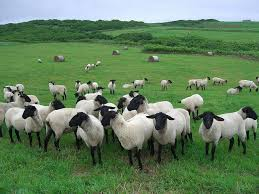sheep: (105, 106, 152, 167), (148, 107, 192, 160), (197, 112, 248, 155), (3, 103, 44, 150), (70, 109, 107, 161), (177, 89, 207, 114), (239, 104, 259, 135), (76, 97, 104, 117), (46, 80, 69, 98), (238, 78, 258, 97), (1, 82, 19, 103), (18, 90, 39, 105), (195, 75, 211, 91), (131, 77, 149, 90), (212, 75, 227, 88), (107, 78, 118, 95), (226, 83, 241, 95), (159, 78, 172, 91), (75, 84, 89, 96), (87, 80, 100, 90), (94, 59, 102, 68), (83, 64, 89, 72)
